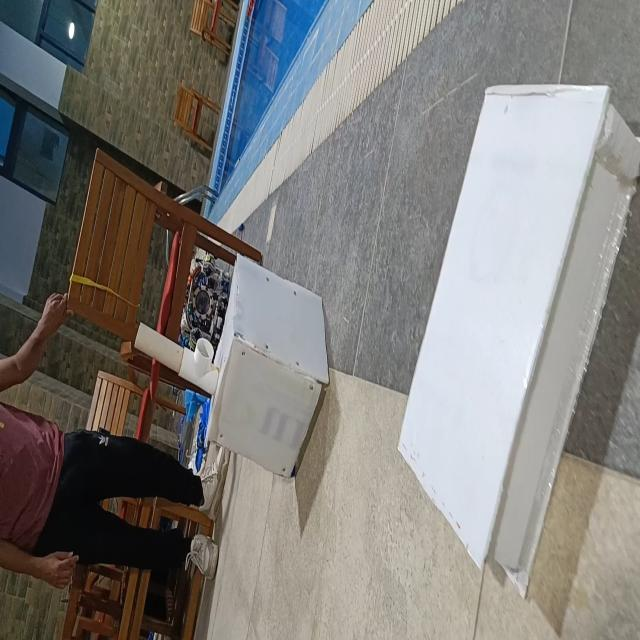Cube: (206, 251, 330, 479)
Cuboid: (396, 79, 611, 572)
